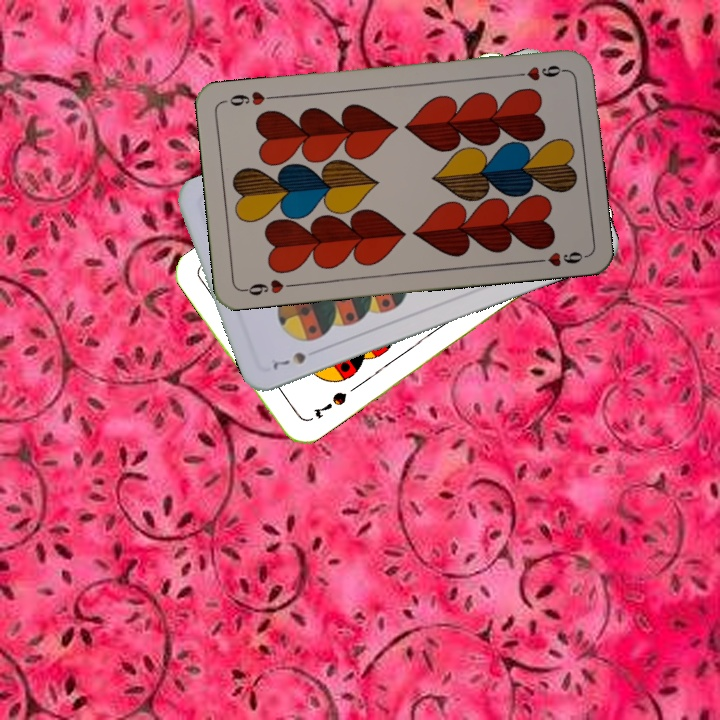H9: (239, 275, 298, 298), (509, 61, 568, 84)
S7: (309, 387, 350, 422), (269, 348, 309, 373)
